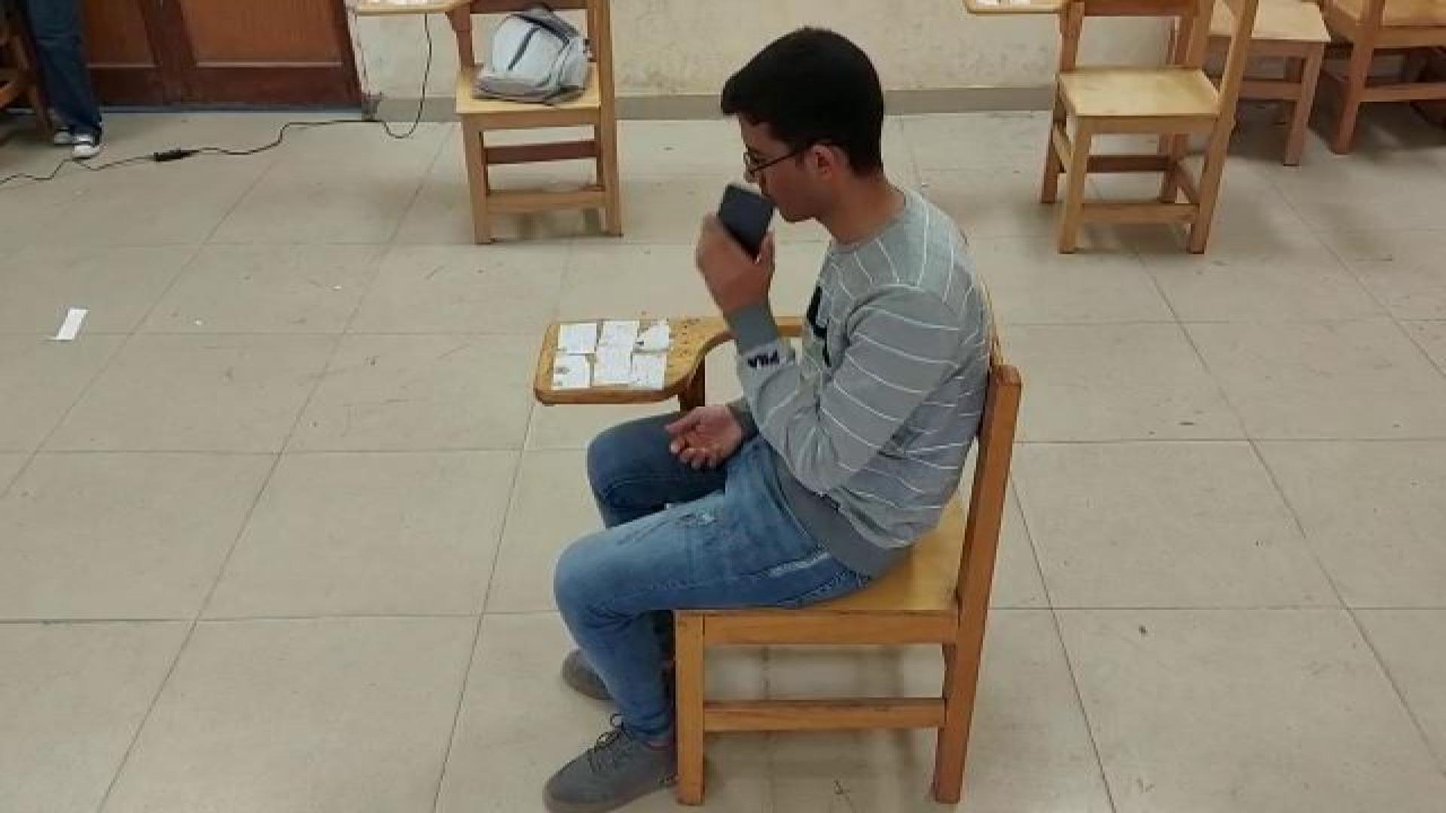phone: (714, 177, 773, 250)
